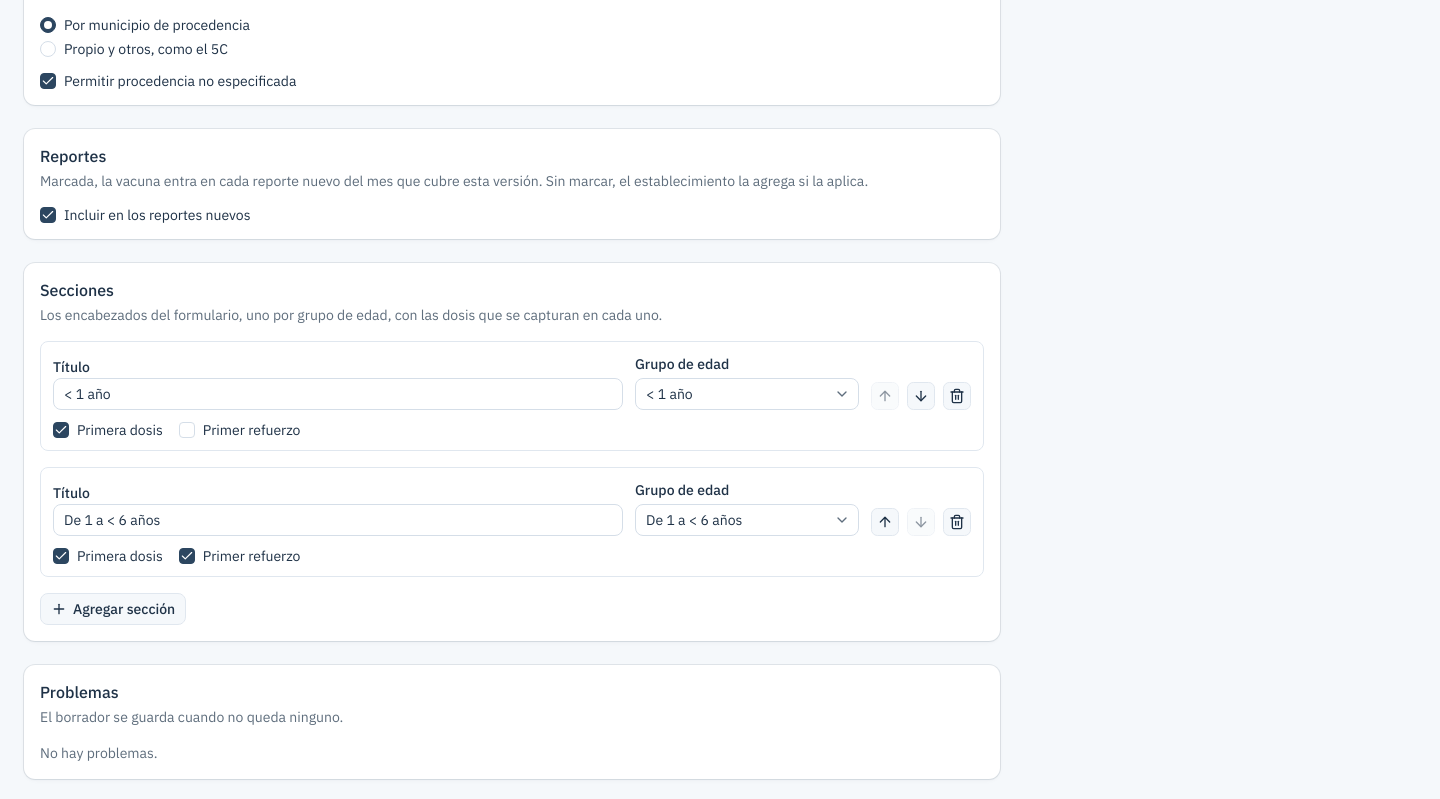
Test: con cambios, "Volver" pide confirmación y "Seguir editando" se queda
(page scrolled)
Replace the text in the field named "Título de la sección 1" with "Menores de 1 año" at (338, 394), box left=53, top=378, right=623, bottom=410
(page scrolled)
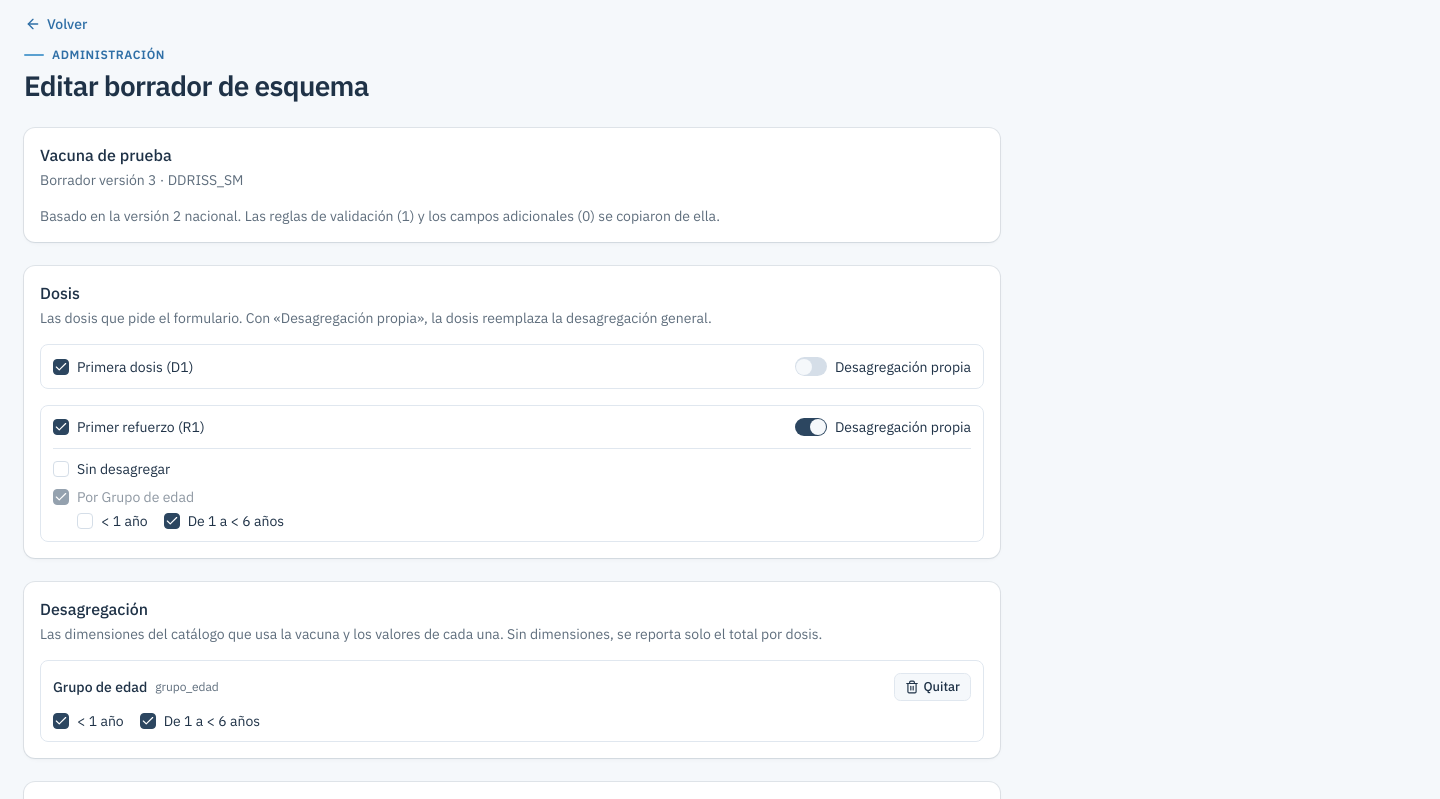
Click the link "Volver" at (56, 24), box left=24, top=13, right=88, bottom=35
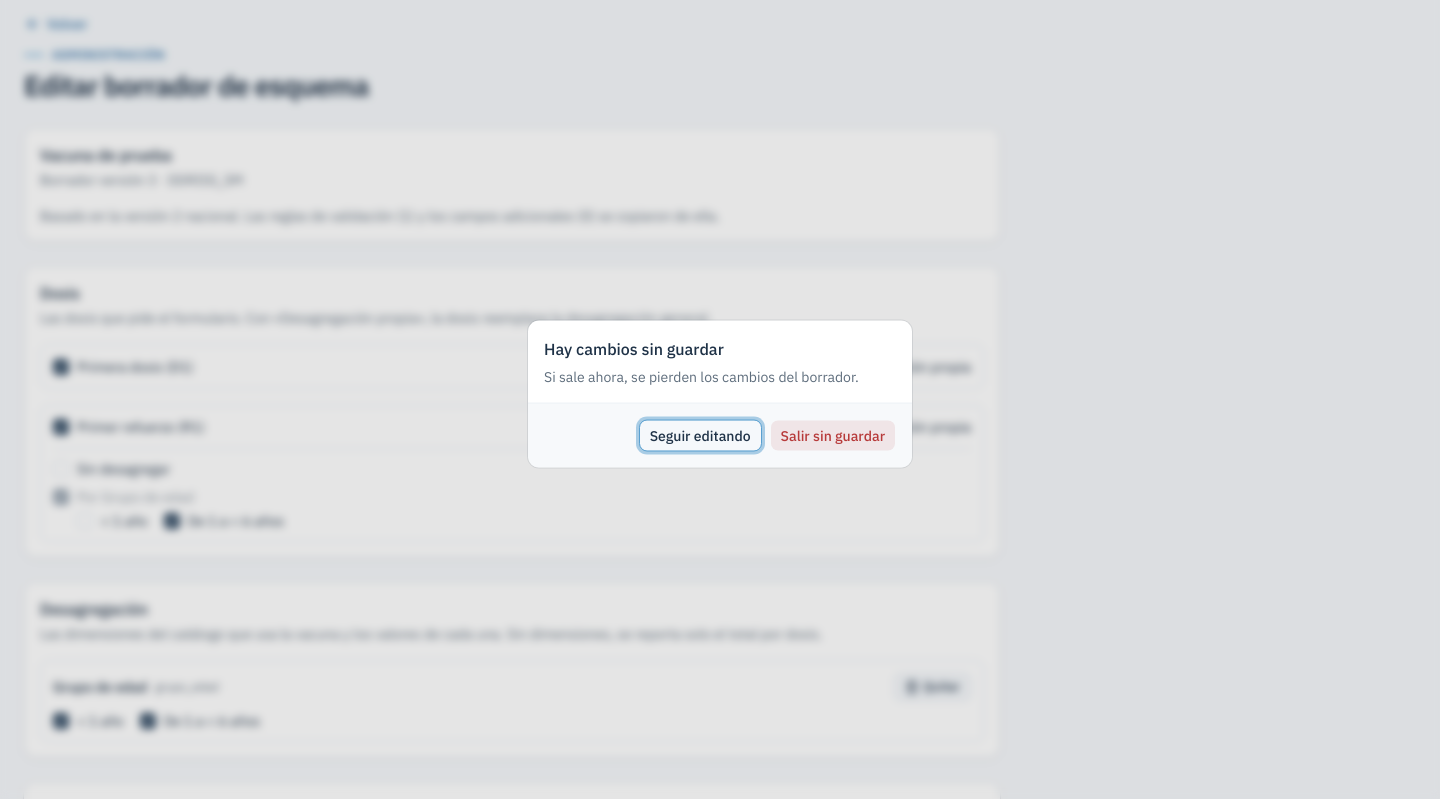
Now the dialog shows "Si sale ahora, se pierden los cambios del borrador.", box left=544, top=368, right=859, bottom=386
Click the button "Seguir editando" at (700, 436), box left=639, top=420, right=762, bottom=452
(page scrolled)
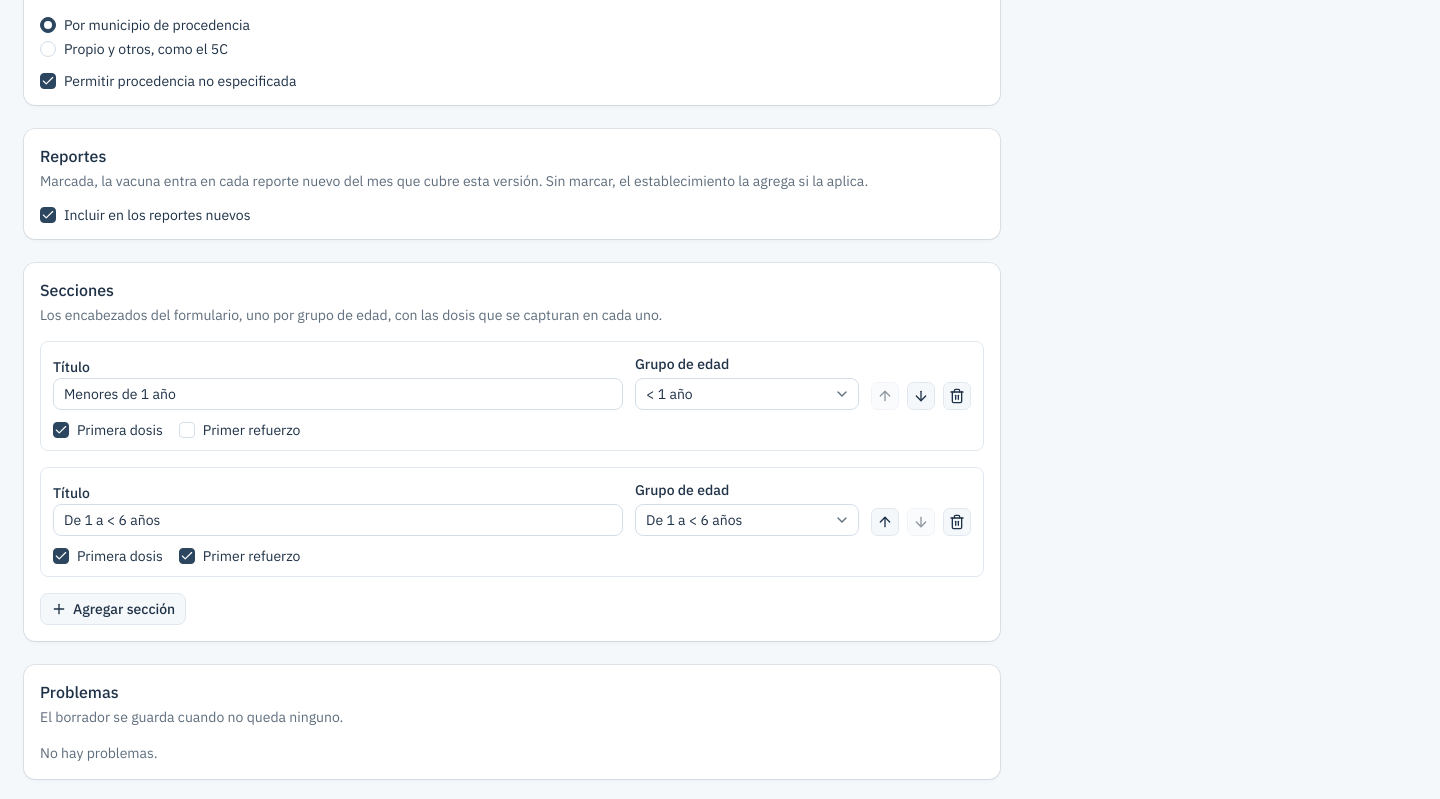
Now the dialog is gone
